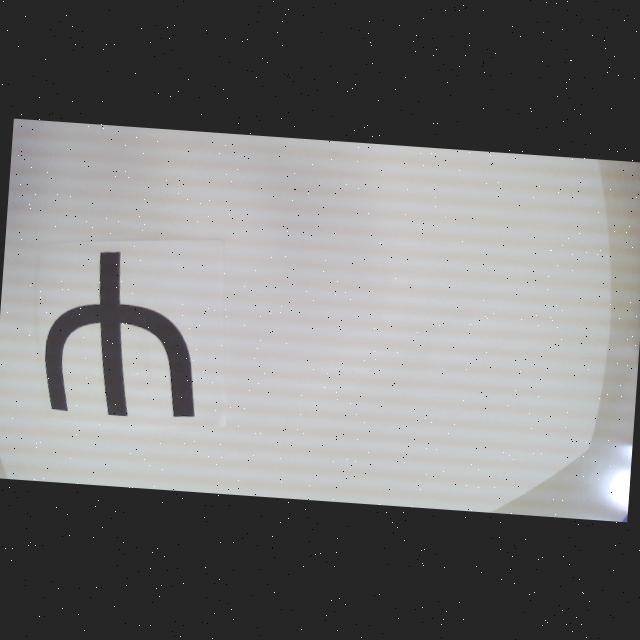PSI: (40, 246, 207, 421)
